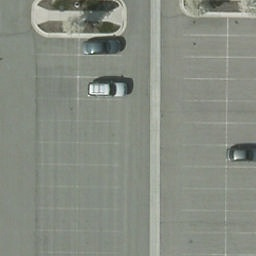car: (85, 80, 129, 98), (82, 38, 125, 54)
